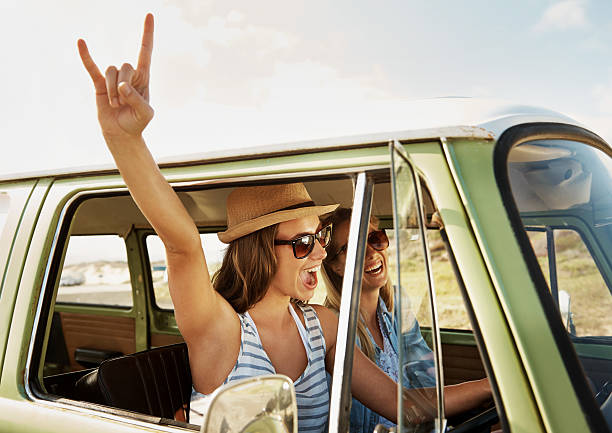Rock On: (69, 12, 167, 135)
